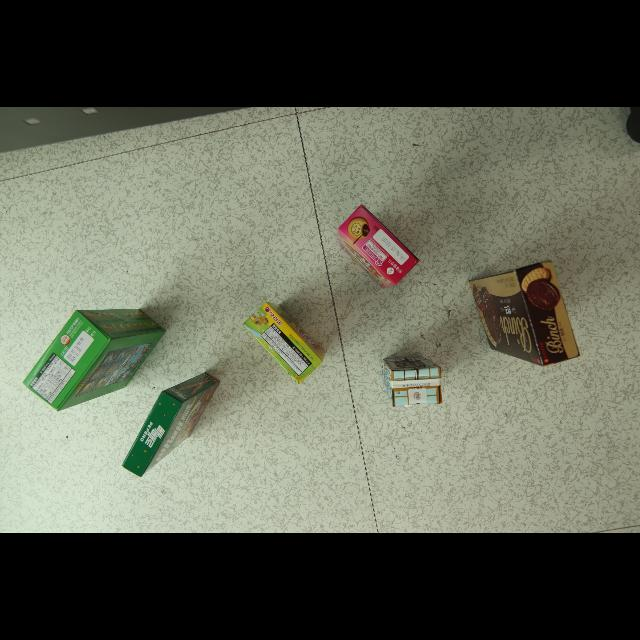box: (22, 309, 165, 411), (470, 261, 581, 366), (122, 373, 218, 477), (338, 205, 420, 288), (243, 302, 325, 384), (383, 357, 443, 406)
